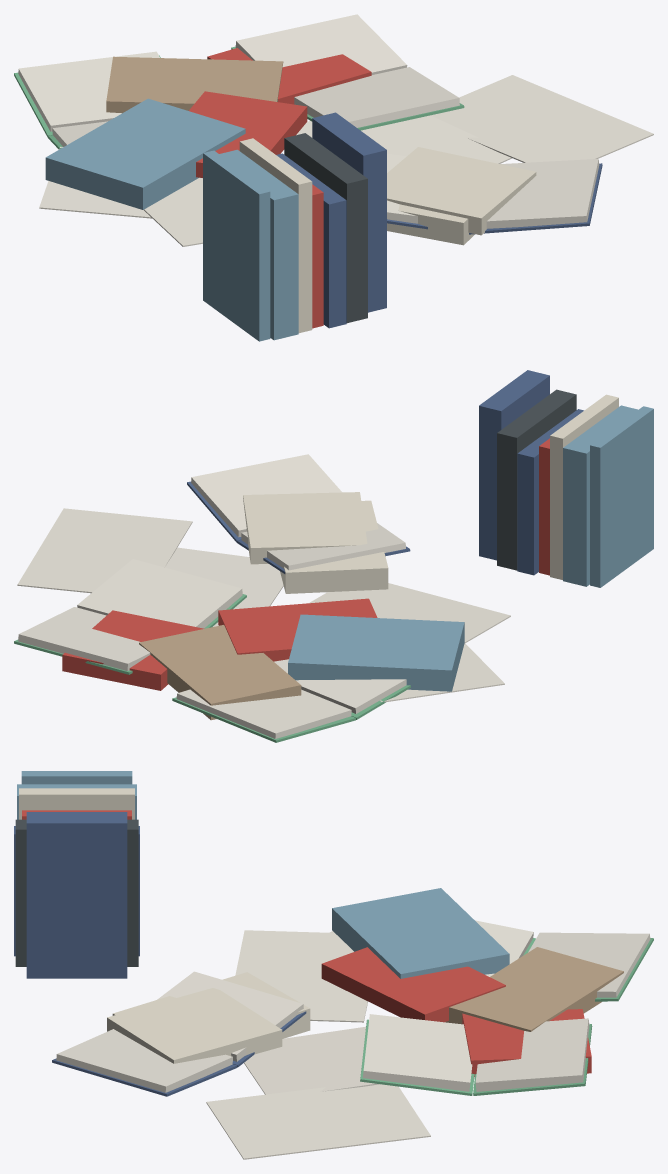
Rendered from book_set_broken.fbx.
3 views of the same model, one above another, from view 1: azimuth 30°, elevation 25°; view 2: azimuth 150°, elevation 25°; view 3: azimuth 270°, elevation 25° (orthographic). The views are drawn at different scales.
Visible parts, largest first — view 1: book_set_broken_debris, book_set_broken; view 2: book_set_broken_debris, book_set_broken; view 3: book_set_broken_debris, book_set_broken.
Boxes of the visible parts, x1=… form: book_set_broken_debris: x1=14, y1=14, x2=653, y2=246; book_set_broken: x1=203, y1=112, x2=386, y2=341; book_set_broken_debris: x1=14, y1=454, x2=510, y2=742; book_set_broken: x1=479, y1=370, x2=653, y2=587; book_set_broken_debris: x1=52, y1=888, x2=653, y2=1159; book_set_broken: x1=14, y1=771, x2=139, y2=978.
Size of the model in its own units: 93.59 by 26.72 by 97.72.
